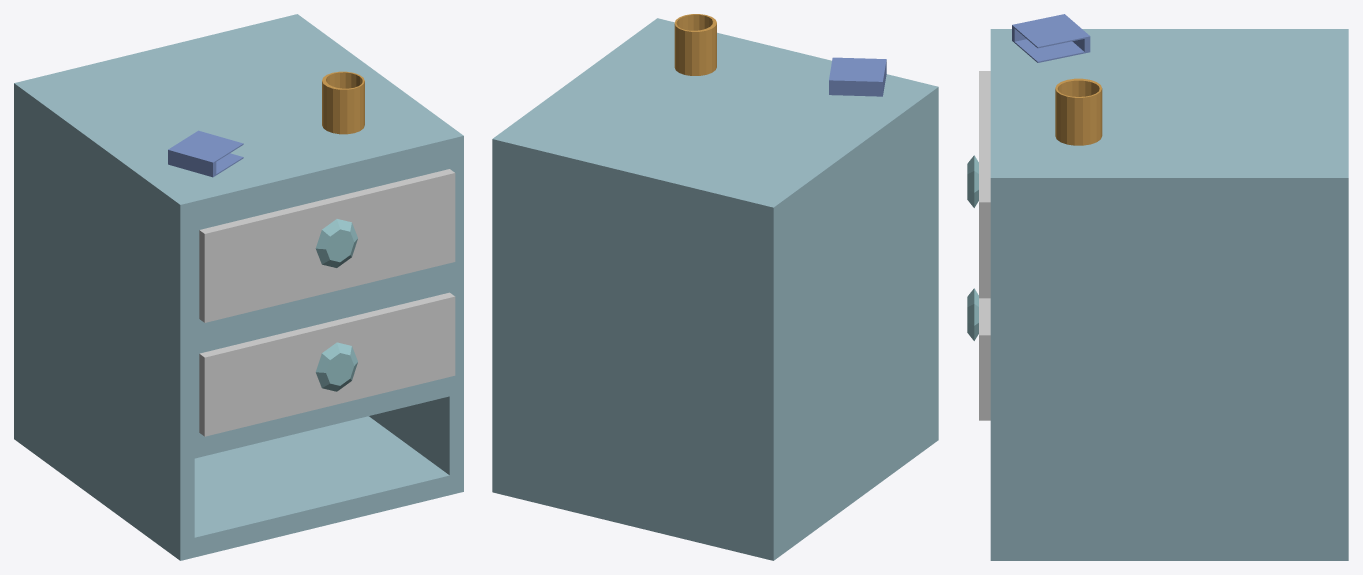
Rendered from Mighty Amur.glb.
3 renders of one model, left to right at view 1: azimuth 30°, elevation 25°; view 2: azimuth 150°, elevation 25°; view 3: azimuth 270°, elevation 25°, orthographic. The views are drawn at different scales.
Parts seen in each view (by area): view 1: Mesh_Mesh_head_geo.001_lambert2SG.001; view 2: Mesh_Mesh_head_geo.001_lambert2SG.001; view 3: Mesh_Mesh_head_geo.001_lambert2SG.001.
Part boxes in pixels (x1,y1,x2,y2): Mesh_Mesh_head_geo.001_lambert2SG.001: [14, 14, 463, 560]; Mesh_Mesh_head_geo.001_lambert2SG.001: [492, 14, 938, 560]; Mesh_Mesh_head_geo.001_lambert2SG.001: [967, 14, 1348, 560].
Size of the model in its own units: 60 by 81 by 65.
